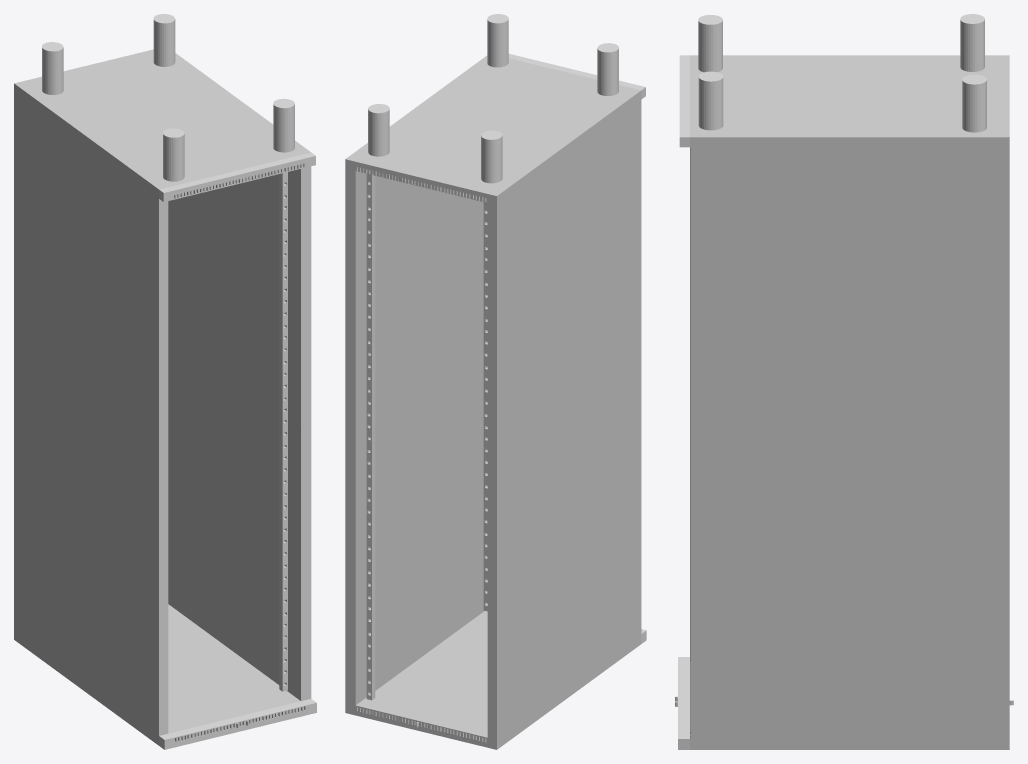
File: Rack.fbx
3 views of the same model, side by side, from view 1: azimuth 30°, elevation 25°; view 2: azimuth 150°, elevation 25°; view 3: azimuth 270°, elevation 25° (orthographic). The views are drawn at different scales.
Visible parts, largest first — view 1: Rack; view 2: Rack; view 3: Rack.
Part boxes in pixels (box(x1,y1,x2,y2)): Rack: box(14, 14, 316, 749); Rack: box(345, 14, 646, 749); Rack: box(675, 14, 1013, 749).
Size of the model in its own units: 55.41 by 210 by 96.91.
Materials: 2 (1 with a texture image).
